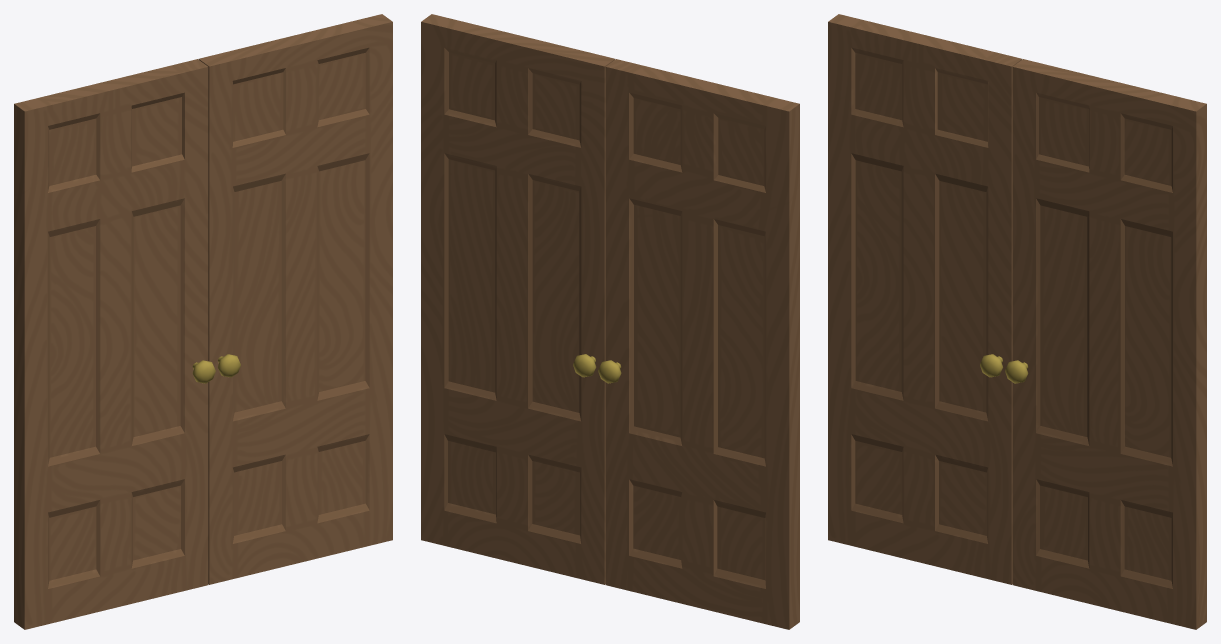
File: FoyerDoors.fbx
3 renders of one model, left to right at view 1: azimuth 30°, elevation 25°; view 2: azimuth 150°, elevation 25°; view 3: azimuth 330°, elevation 25°, orthographic.
Visible parts, largest first — view 1: pasted__polySurface52; view 2: pasted__polySurface52; view 3: pasted__polySurface52.
Boxes of the visible parts, box(x1,y1,x2,y2) form: pasted__polySurface52: box(14, 14, 392, 629); pasted__polySurface52: box(421, 14, 799, 629); pasted__polySurface52: box(828, 14, 1206, 629).
Bounding box in the file's own units: 60.13 × 80.91 × 9.75.
